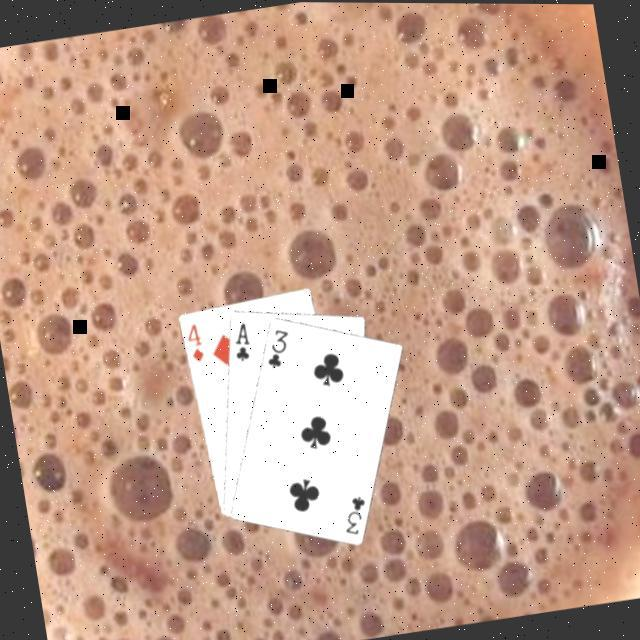3C: (257, 321, 295, 369), (334, 488, 371, 536)
4D: (180, 317, 206, 363)
AC: (225, 316, 254, 363)
